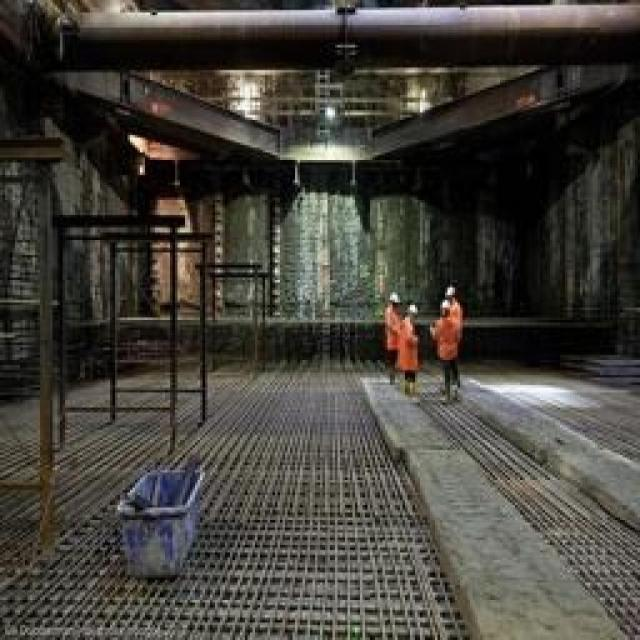Helmet: (373, 306, 411, 358), (432, 314, 464, 372), (396, 317, 424, 375), (449, 298, 471, 350), (396, 295, 428, 323), (380, 286, 408, 315), (441, 276, 465, 308), (432, 297, 456, 323)
